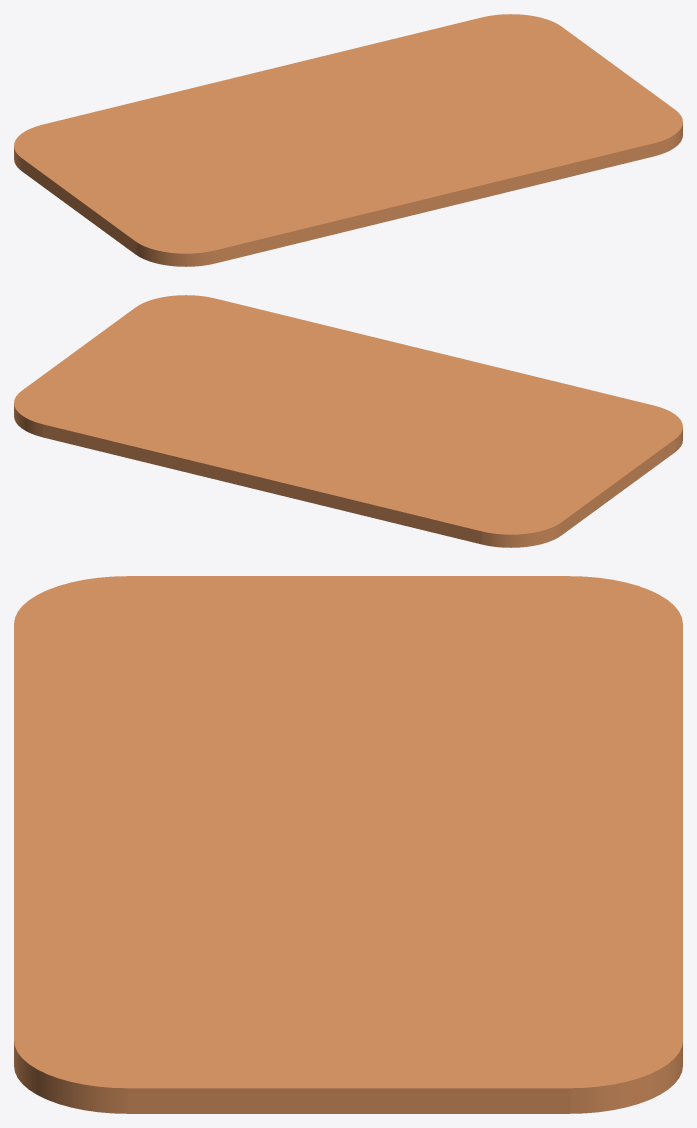
File: Rug Doormat.glb
The picture shows the model from 3 angles, top to bottom: view 1: azimuth 30°, elevation 25°; view 2: azimuth 150°, elevation 25°; view 3: azimuth 270°, elevation 25°; orthographic projection. The views are drawn at different scales.
Visible parts, largest first — view 1: rugDoormat; view 2: rugDoormat; view 3: rugDoormat.
Part boxes in pixels (box(x1,y1,x2,y2)): rugDoormat: box(14, 14, 682, 266); rugDoormat: box(14, 295, 682, 547); rugDoormat: box(14, 576, 682, 1113).
Size of the model in its own units: 0.4293 by 0.01 by 0.237.
